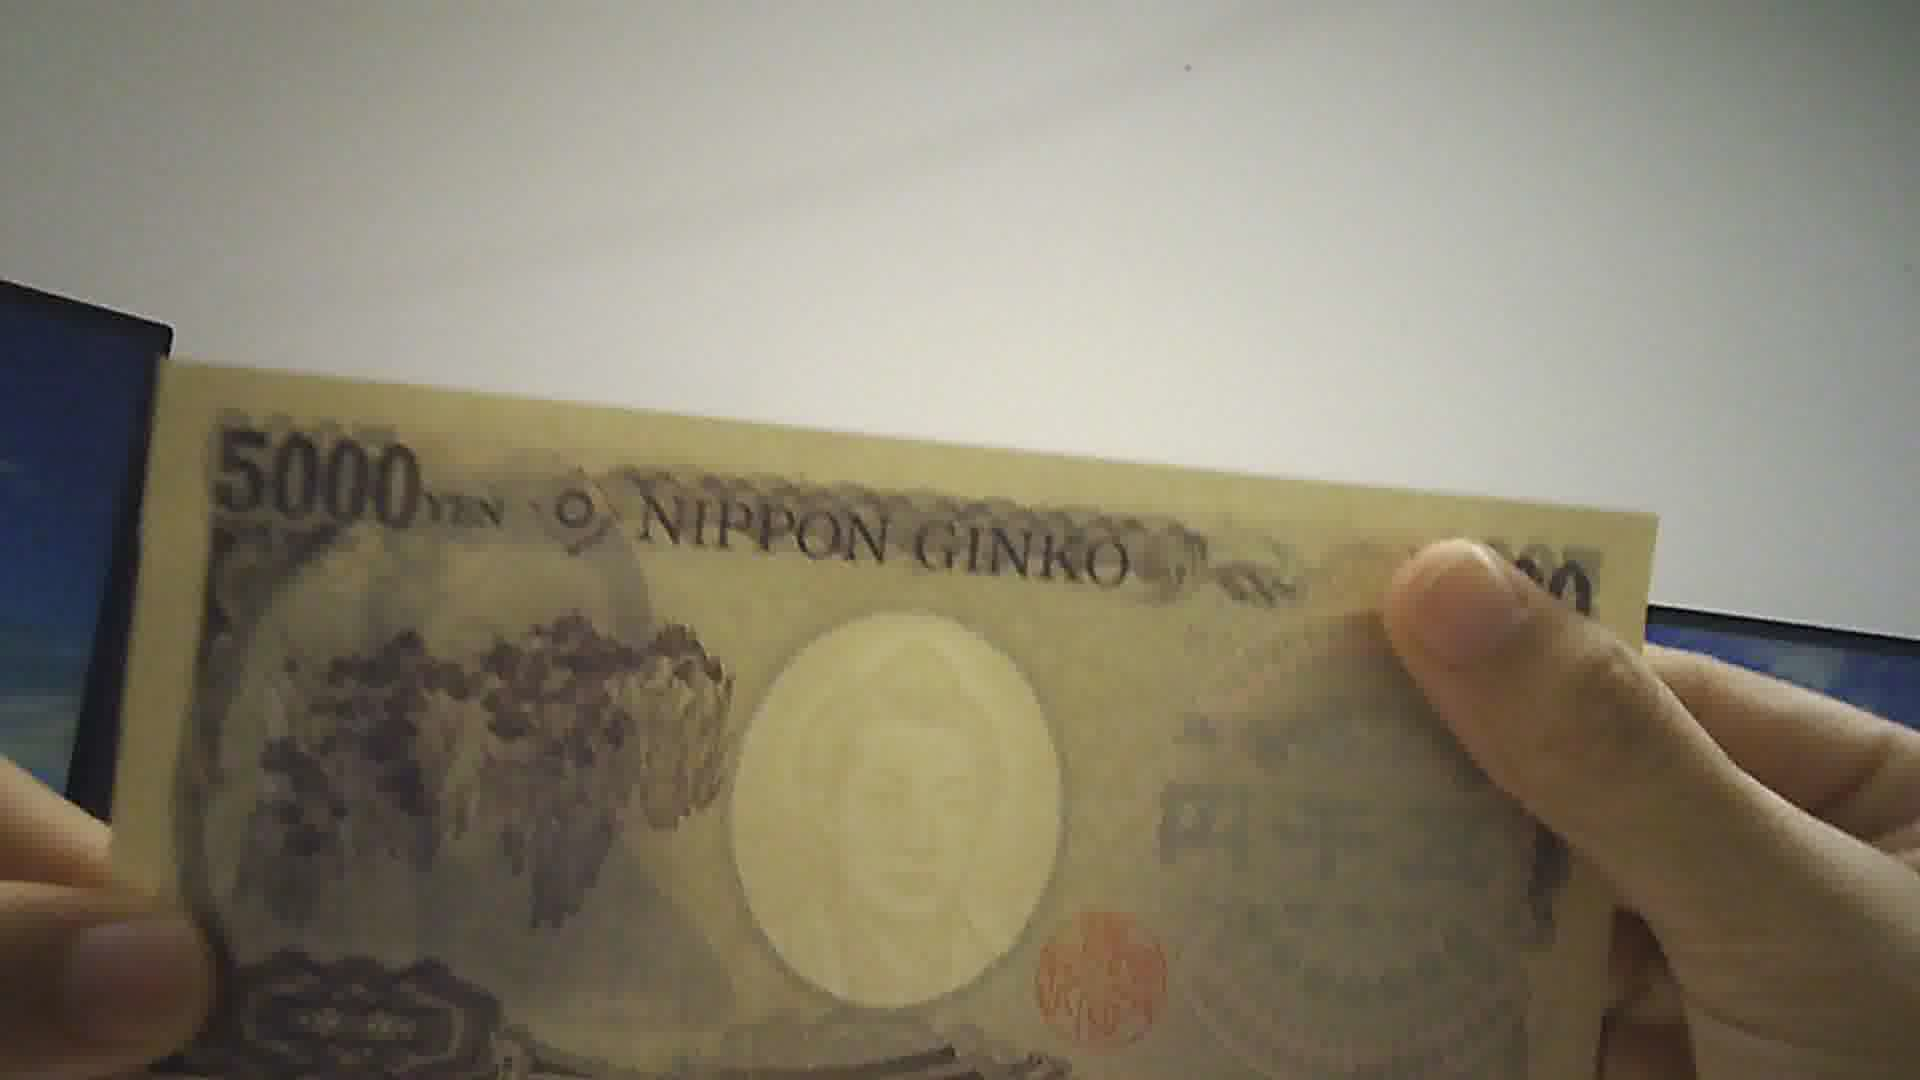5,000 Yen: (123, 356, 1683, 1058)
